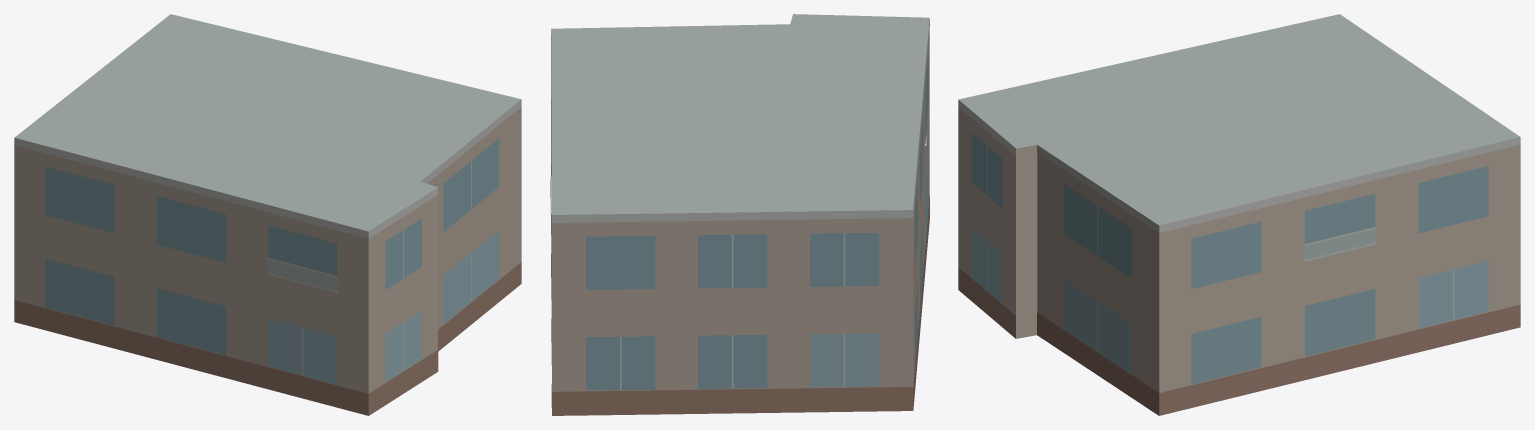
The model's file is survey-upis-32668581.glb.
The picture shows the model from 3 angles, left to right: view 1: azimuth 30°, elevation 25°; view 2: azimuth 150°, elevation 25°; view 3: azimuth 270°, elevation 25°; orthographic projection. The views are drawn at different scales.
Visible parts, largest first — view 1: survey-upis-32668581.tmp; view 2: survey-upis-32668581.tmp; view 3: survey-upis-32668581.tmp.
Boxes of the visible parts, left/top/right/bottom form: survey-upis-32668581.tmp: left=14, top=14, right=521, bottom=415; survey-upis-32668581.tmp: left=550, top=14, right=929, bottom=415; survey-upis-32668581.tmp: left=958, top=14, right=1520, bottom=415.
Bounding box in the file's own units: 14.55 × 6.1 × 16.34.
